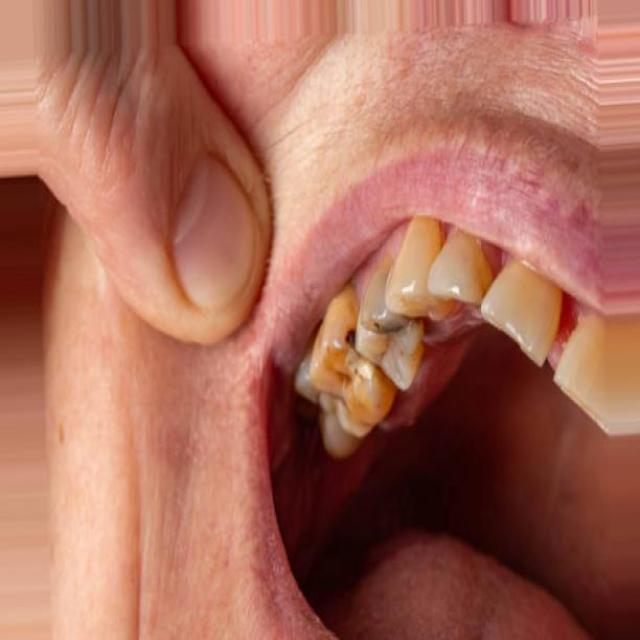caries: (304, 302, 387, 424), (363, 297, 431, 362)
